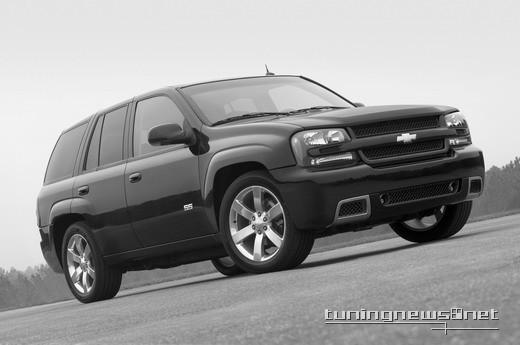car: (35, 64, 487, 306)
